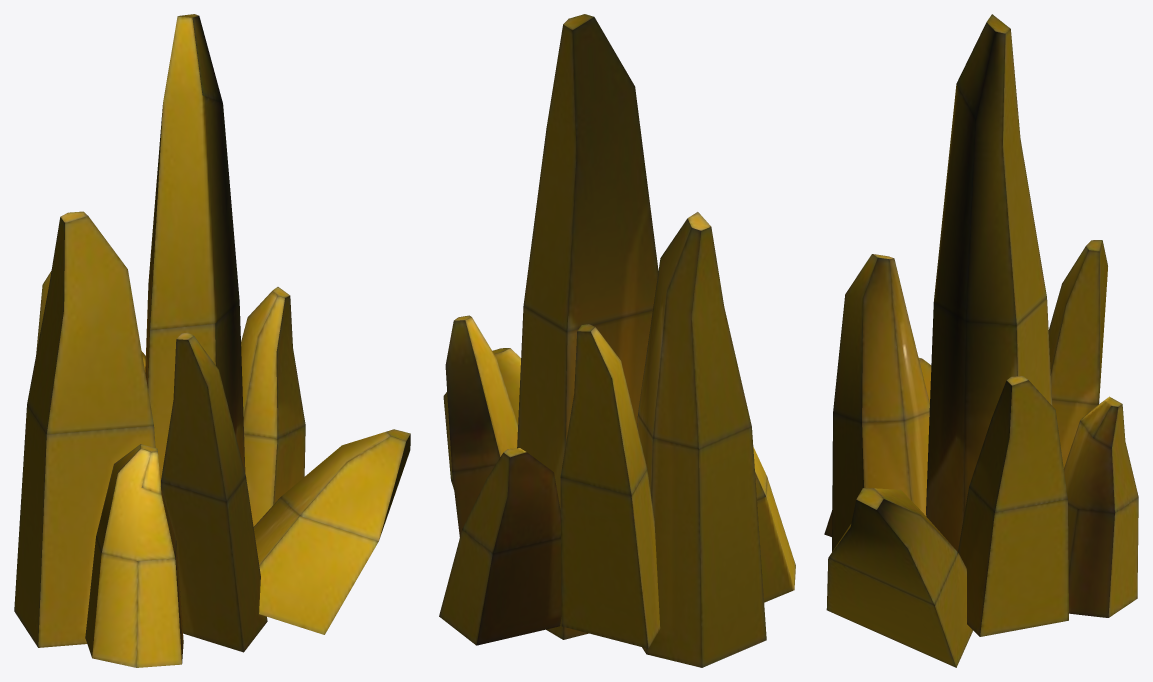
The model's file is crystals.obj.
3 views of the same model, side by side, from view 1: azimuth 30°, elevation 25°; view 2: azimuth 150°, elevation 25°; view 3: azimuth 270°, elevation 25° (orthographic). The views are drawn at different scales.
Parts seen in each view (by area): view 1: Box034; view 2: Box034; view 3: Box034.
Boxes of the visible parts, x1,y1,x2,y2 form: Box034: (14,14,410,667); Box034: (439,14,795,667); Box034: (824,14,1138,667).
Size of the model in its own units: 26.32 by 43.9 by 21.09.
Materials: 1 (1 with a texture image).
